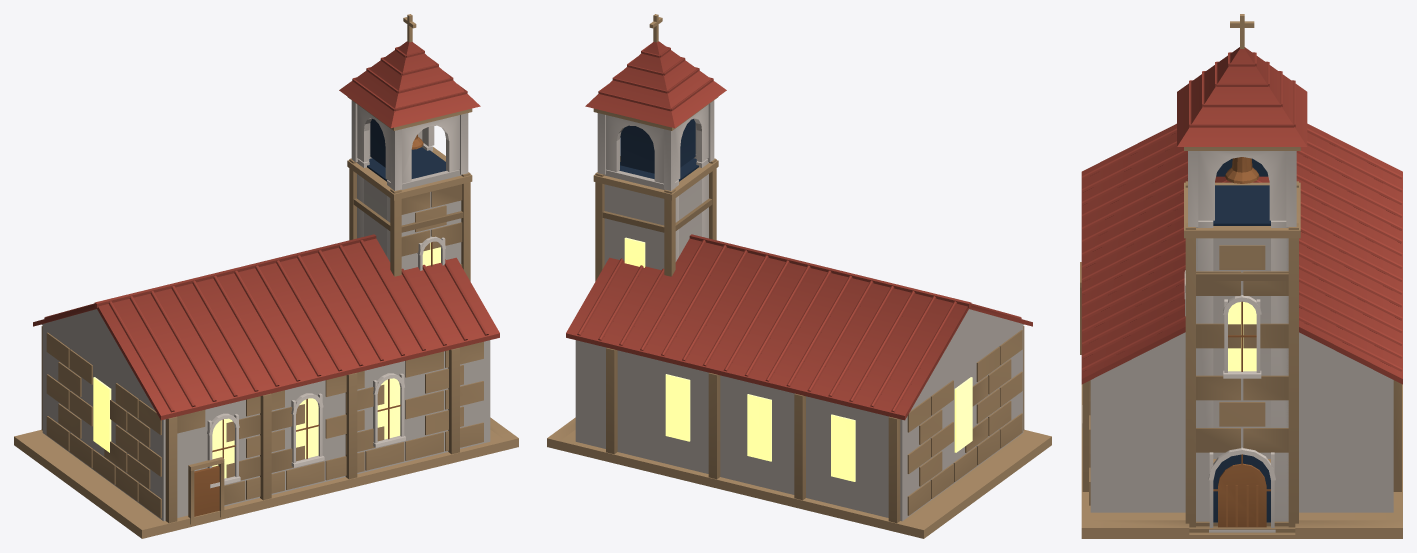
The model's file is bld.church.lod1.glb.
The picture shows the model from 3 angles, left to right: view 1: azimuth 30°, elevation 25°; view 2: azimuth 150°, elevation 25°; view 3: azimuth 270°, elevation 25°; orthographic projection. The views are drawn at different scales.
Parts seen in each view (by area): view 1: body, roof; view 2: body, roof; view 3: body, roof, door_front.
Boxes of the visible parts, x1,y1,x2,y2 form: body: (14,14,518,538); roof: (33,41,499,420); body: (547,14,1051,538); roof: (566,41,1032,420); body: (1080,14,1402,538); roof: (1081,47,1402,384); door_front: (1218,463,1266,527).
Bounding box in the file's own units: 18 × 18.08 × 10.65.
